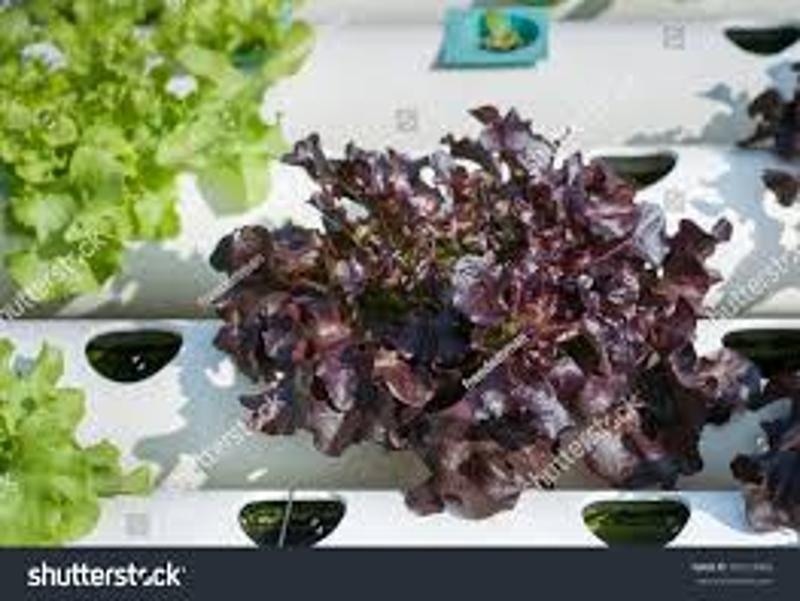green lettuce: (5, 1, 302, 287)
red lettuce: (227, 118, 741, 501)
